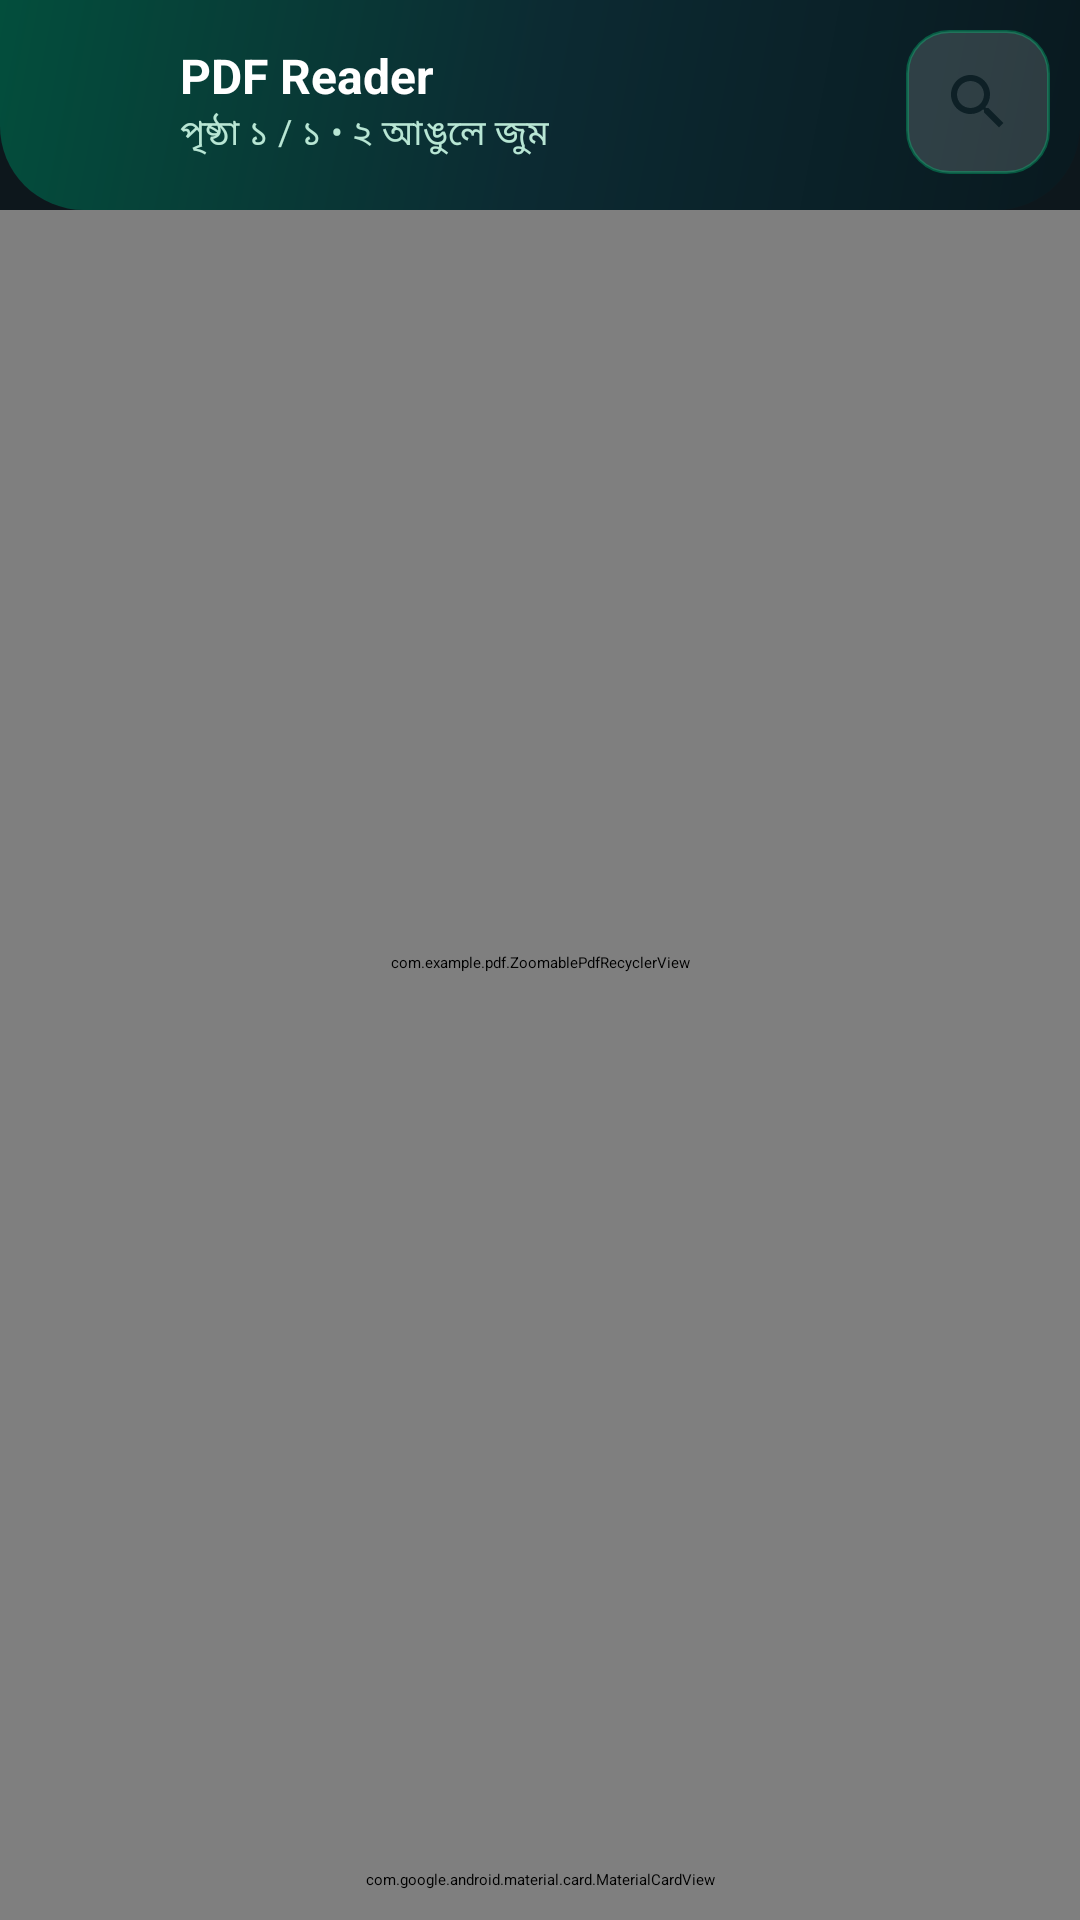

Icons on this 1080 x 1920 Android screen, each with its box as (x1, y1, x2, y2):
পৃষ্ঠা খুঁজুন: (906, 30, 1050, 174)
